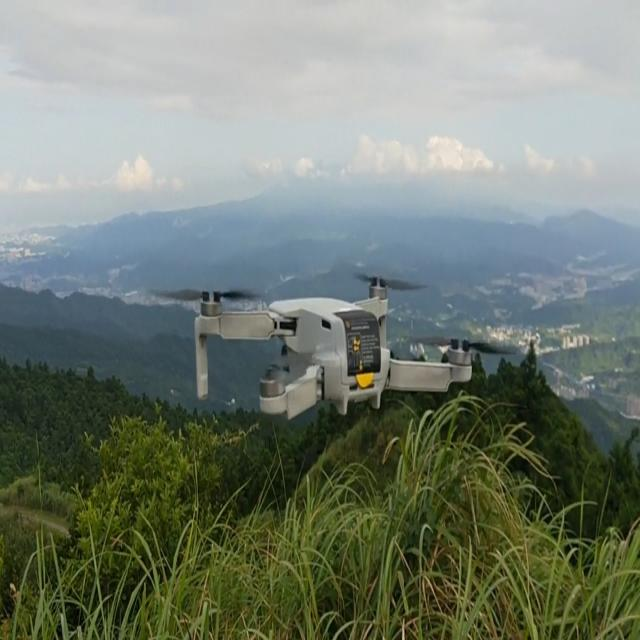Drone: (148, 266, 493, 431)
